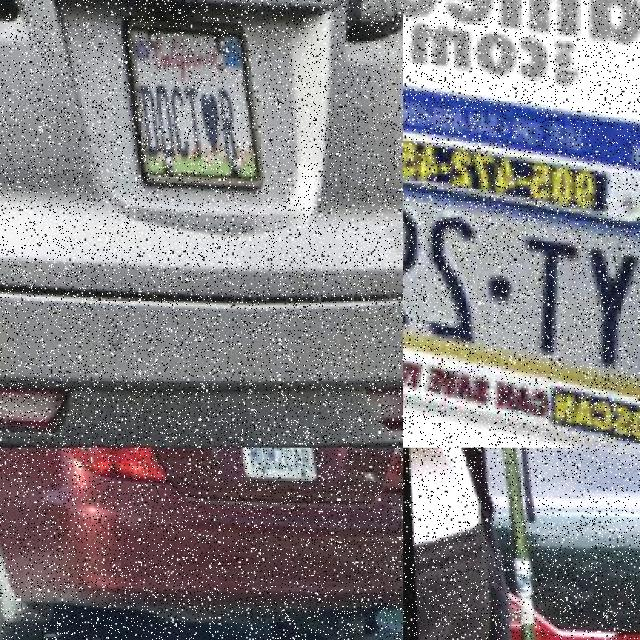licenseplate: (403, 169, 640, 388), (403, 0, 640, 108), (118, 15, 258, 180), (236, 448, 311, 475)
